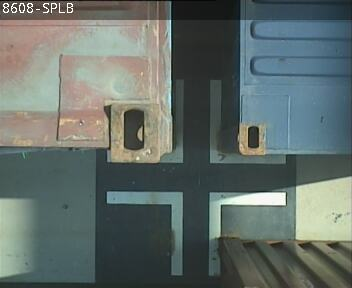groundmarker_1: (106, 190, 284, 275), (158, 78, 287, 163)
